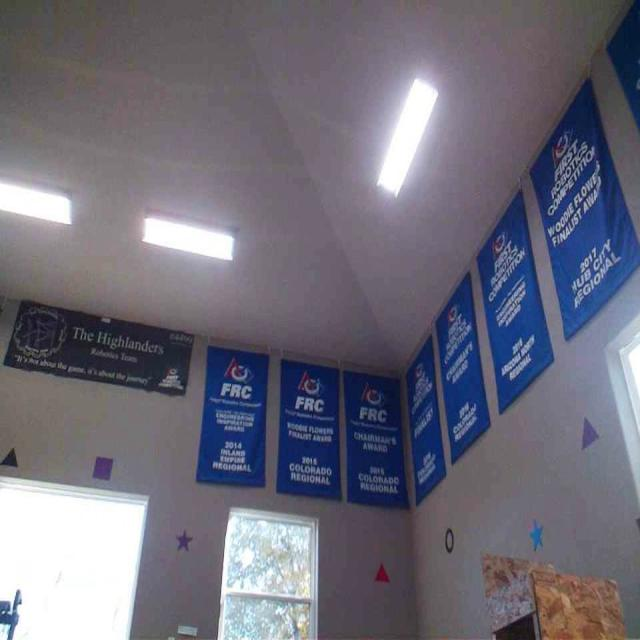ring_black: (443, 526, 454, 553)
square_purple: (91, 454, 114, 479)
star_blue: (529, 515, 544, 550)
star_purple: (175, 529, 192, 551)
triangle_black: (0, 447, 19, 468)
triangle_purple: (581, 415, 599, 450)
triangle_red: (374, 561, 390, 582)
